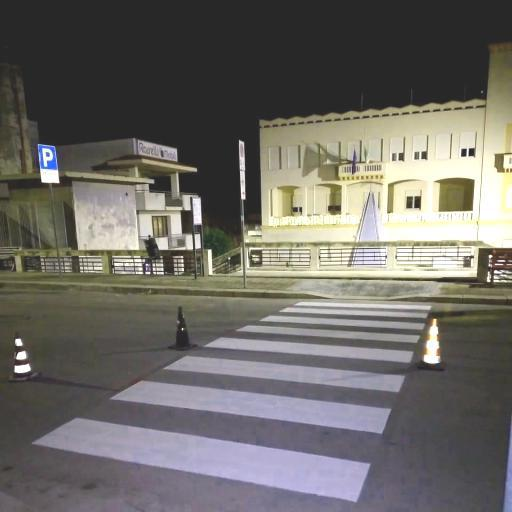crosswalk: (92, 353, 412, 438), (252, 304, 440, 332)
